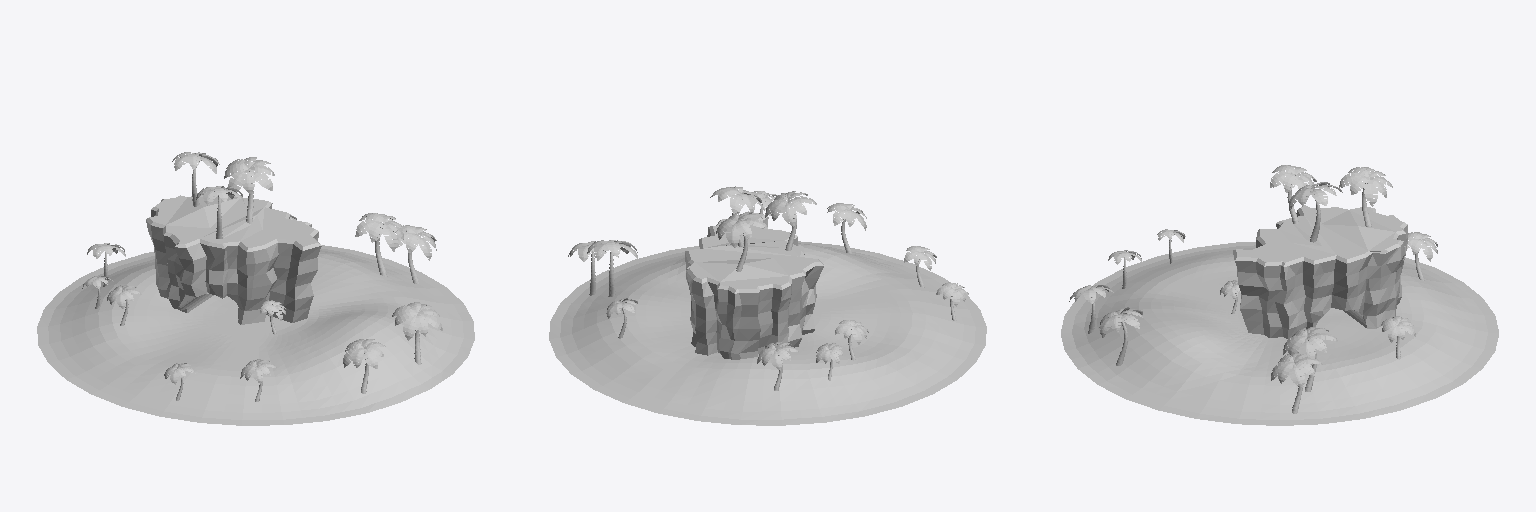
File: beach_track_terrain.obj
3 views of the same model, side by side, from view 1: azimuth 30°, elevation 25°; view 2: azimuth 150°, elevation 25°; view 3: azimuth 270°, elevation 25° (orthographic).
Visible parts, largest first — view 1: sand, cliff, leaves, cliff_top, trunk; view 2: sand, cliff, leaves, cliff_top, trunk; view 3: sand, cliff, leaves, cliff_top, trunk.
Part boxes in pixels (bbox=[...]): sand: bbox=[37, 245, 474, 425]; cliff: bbox=[146, 194, 321, 324]; leaves: bbox=[82, 152, 442, 384]; cliff_top: bbox=[149, 192, 317, 247]; trunk: bbox=[95, 160, 421, 401]; sand: bbox=[549, 241, 986, 425]; cliff: bbox=[685, 215, 824, 359]; leaves: bbox=[568, 186, 968, 370]; cliff_top: bbox=[687, 211, 819, 289]; trunk: bbox=[589, 201, 956, 390]; sand: bbox=[1061, 242, 1498, 425]; cliff: bbox=[1233, 208, 1407, 338]; leaves: bbox=[1069, 165, 1437, 387]; cliff_top: bbox=[1236, 205, 1403, 262]; trunk: bbox=[1088, 174, 1424, 413].
Size of the model in its own units: 160 by 62.17 by 160.